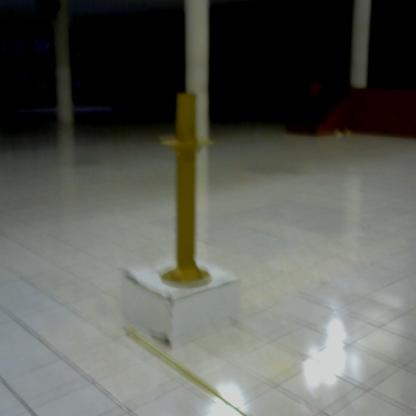pole: (152, 83, 221, 292)
